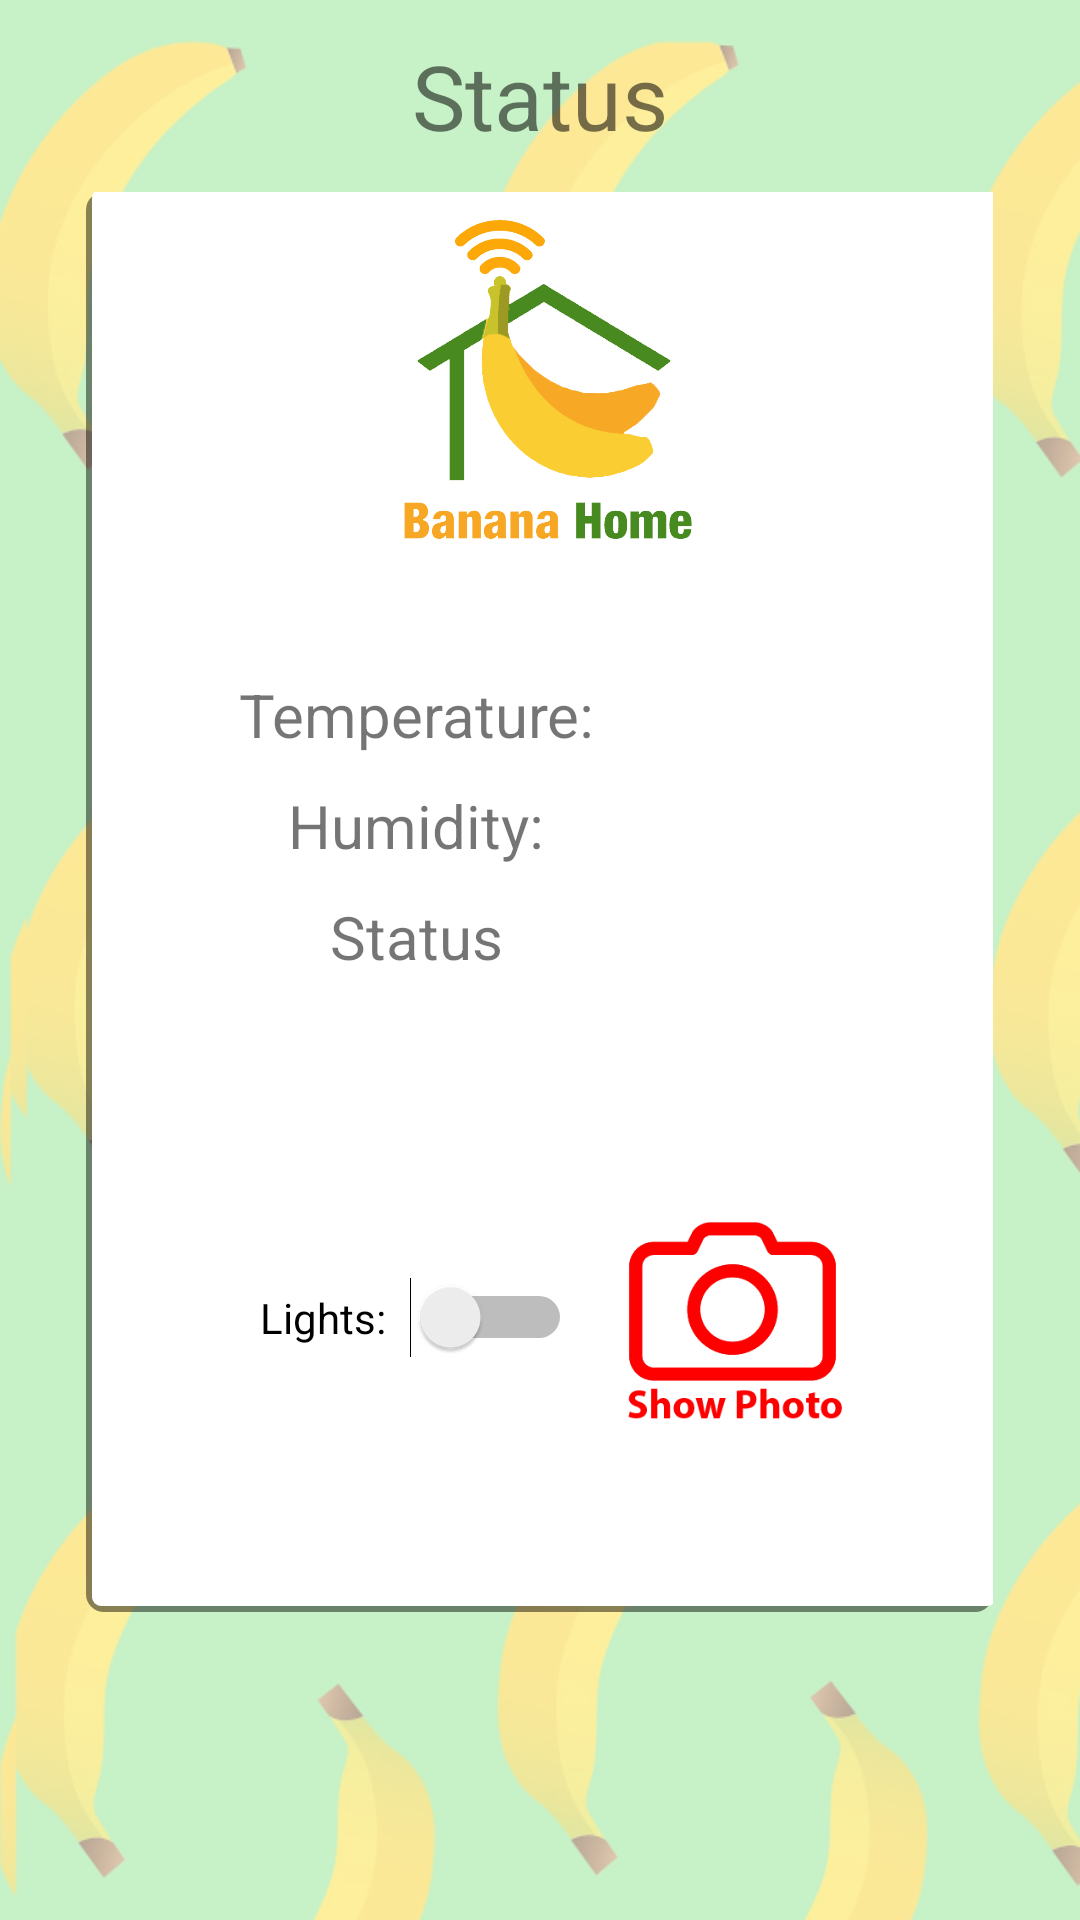

Point at icon controls on the screen. Image size 1080px x 1920px, points as [x,y].
camb: [735,1320]
